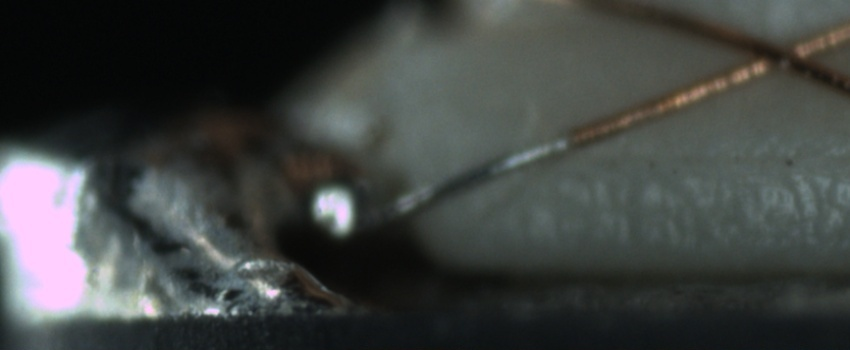CL: (724, 22, 826, 88)
DL: (573, 126, 850, 190)
TS: (359, 134, 567, 234)
